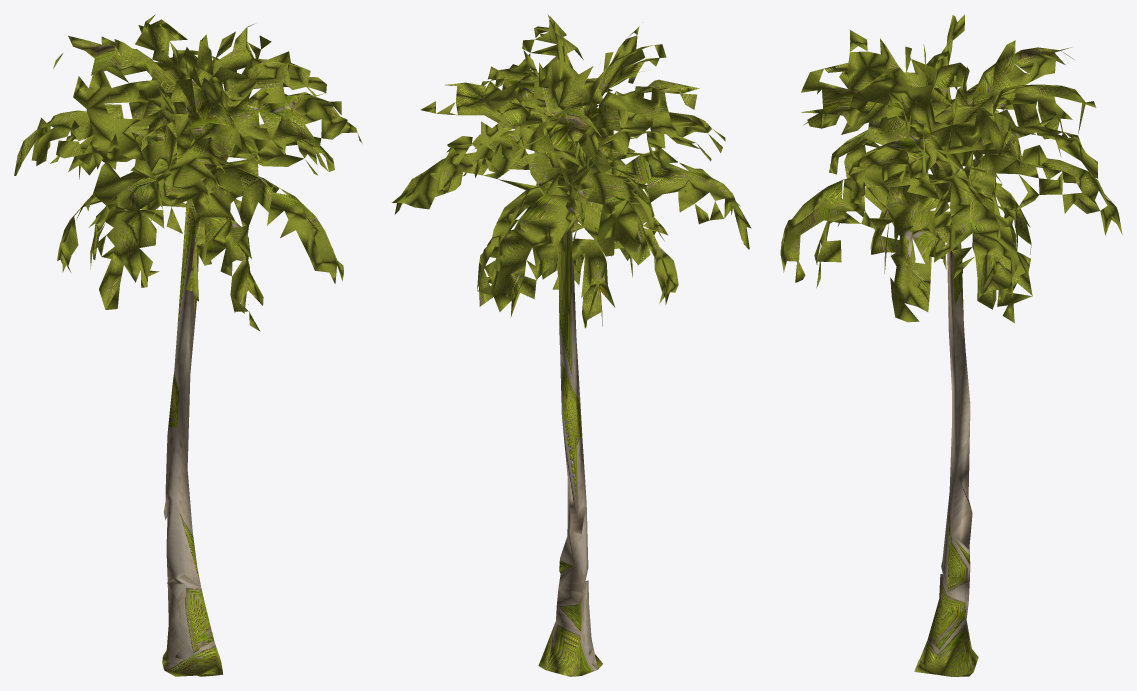
File: coconut_palm.glb
3 views of the same model, side by side, from view 1: azimuth 30°, elevation 25°; view 2: azimuth 150°, elevation 25°; view 3: azimuth 270°, elevation 25° (orthographic). The views are drawn at different scales.
Bounding box in the file's own units: 7.42 × 15 × 7.46.
1 material, 1 textured.
